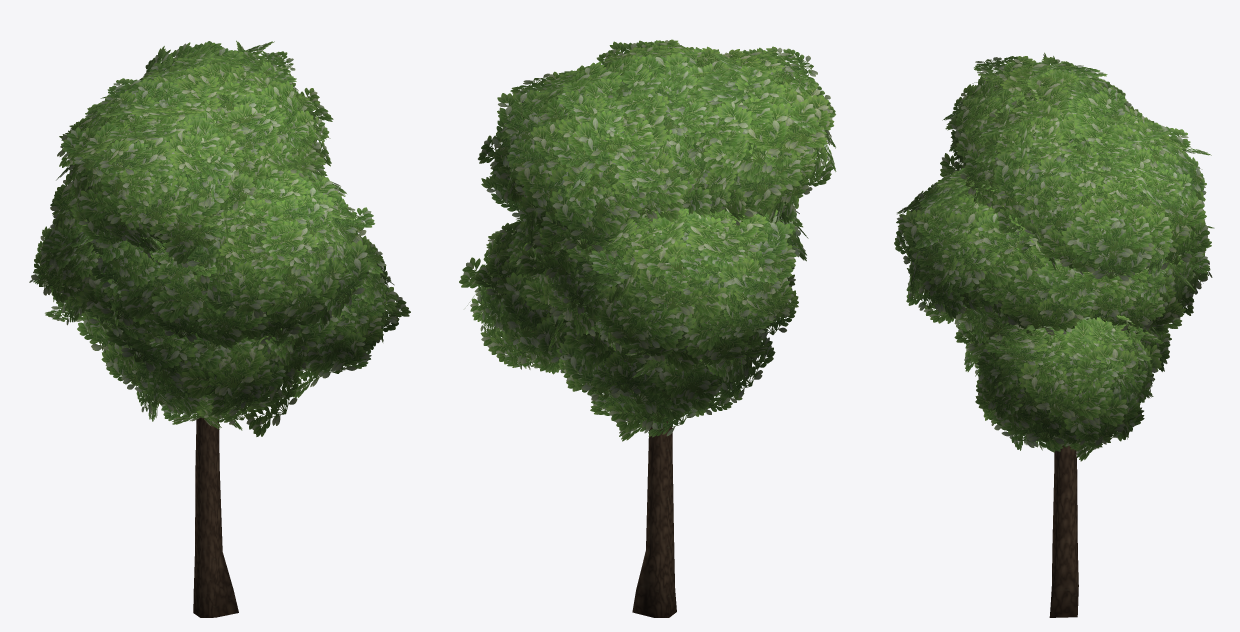
Rendered from sundari_a_lod1.glb.
3 views of the same model, side by side, from view 1: azimuth 30°, elevation 25°; view 2: azimuth 150°, elevation 25°; view 3: azimuth 270°, elevation 25° (orthographic). The views are drawn at different scales.
Parts seen in each view (by area): view 1: leaves, wood; view 2: leaves, wood; view 3: leaves, wood.
Part boxes in pixels (x1=…): leaves: x1=29, y1=40, x2=410, y2=436; wood: x1=193, y1=415, x2=238, y2=617; leaves: x1=459, y1=39, x2=836, y2=441; wood: x1=632, y1=421, x2=676, y2=617; leaves: x1=894, y1=52, x2=1214, y2=461; wood: x1=1049, y1=445, x2=1078, y2=617.
Size of the model in its own units: 7.89 by 12.29 by 7.01.
Materials: 2 (2 with a texture image).
